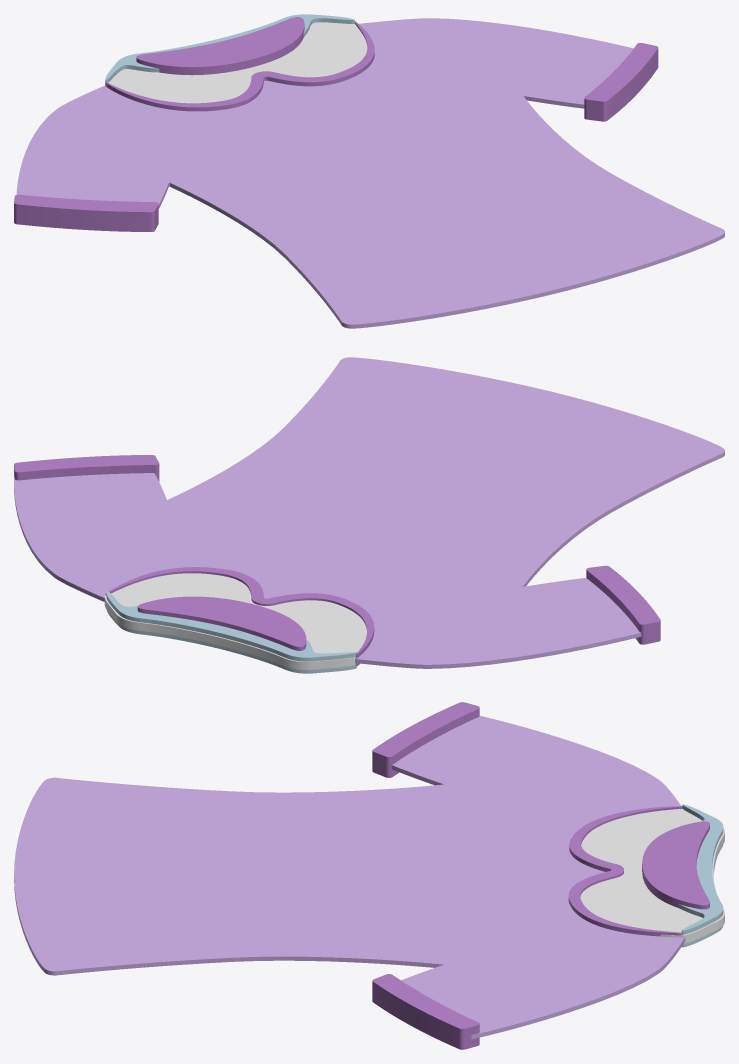
File: emoji_u1f45a.glb
3 renders of one model, top to bottom at view 1: azimuth 30°, elevation 25°; view 2: azimuth 150°, elevation 25°; view 3: azimuth 270°, elevation 25°, orthographic. The views are drawn at different scales.
Visible parts, largest first — view 1: emoji_u1f45a; view 2: emoji_u1f45a; view 3: emoji_u1f45a.
Part boxes in pixels (x1=…): emoji_u1f45a: x1=14, y1=14, x2=724, y2=328; emoji_u1f45a: x1=14, y1=357, x2=724, y2=673; emoji_u1f45a: x1=14, y1=702, x2=724, y2=1049.
Bounding box in the file's own units: 0.0337 × 0.0012 × 0.031.
